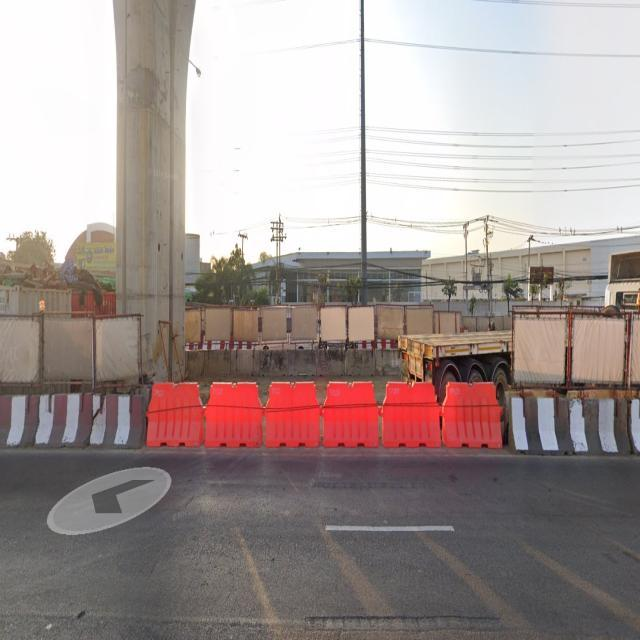fallen_object: (0, 380, 148, 458), (510, 395, 640, 462), (300, 357, 385, 457), (255, 362, 332, 467), (132, 366, 203, 465), (427, 373, 499, 464), (375, 369, 446, 453), (197, 366, 260, 459)
